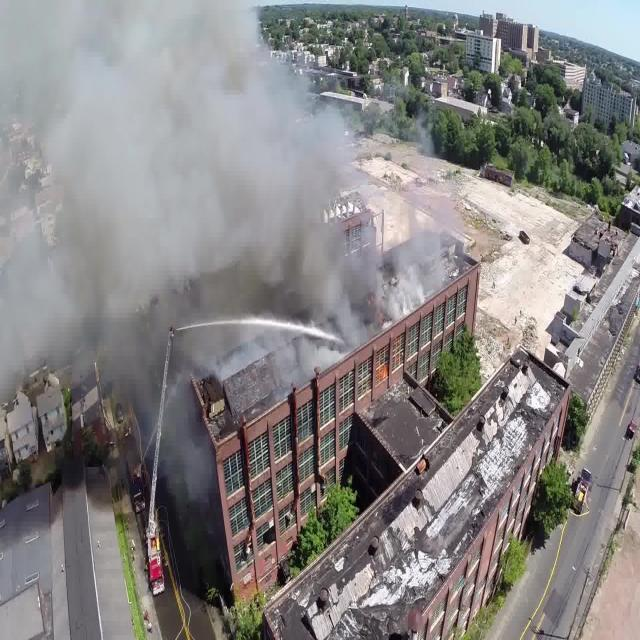Fire: (351, 294, 397, 392)
Smoke: (0, 0, 442, 380)
